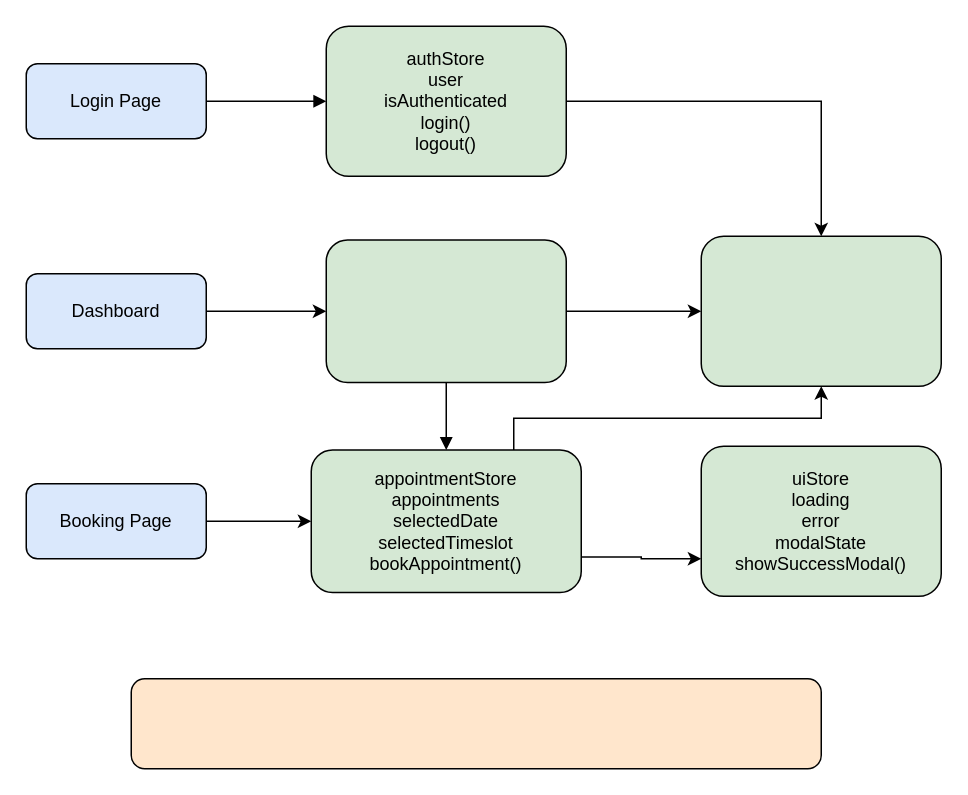
This 968x795 diagram has some shape labels left out. The shapes that lost their labels are listed below. From the top down, each one's centre as x and y in pixels, then its label:
(x=445, y=310): doctorStore doctors selectedDoctor fetchDoctors()
(x=820, y=310): Mock API Layer GET /doctors GET /appointments POST /appointments GET /user
(x=475, y=723): Global Store (Zustand) (auth • doctor • appointment • ui)
